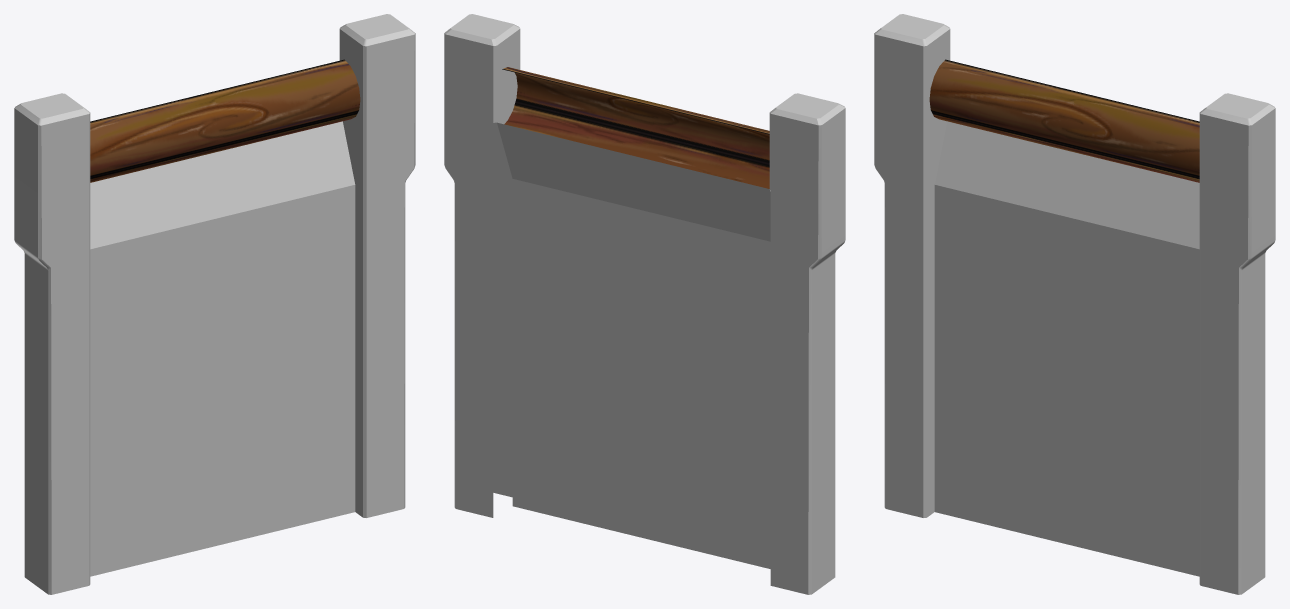
Rendered from Treadmill_End.fbx.
The picture shows the model from 3 angles, left to right: view 1: azimuth 30°, elevation 25°; view 2: azimuth 150°, elevation 25°; view 3: azimuth 330°, elevation 25°; orthographic projection.
Visible parts, largest first — view 1: Treadmill_End; view 2: Treadmill_End; view 3: Treadmill_End.
Boxes of the visible parts, x1,y1,x2,y2 form: Treadmill_End: [14, 14, 415, 594]; Treadmill_End: [444, 14, 845, 594]; Treadmill_End: [874, 14, 1275, 594].
Bounding box in the file's own units: 0.548 × 0.6602 × 0.0653.
